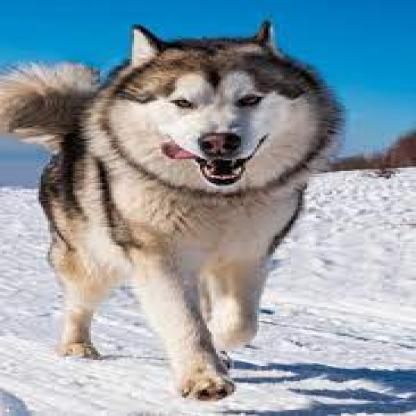husky: (1, 20, 344, 401)
